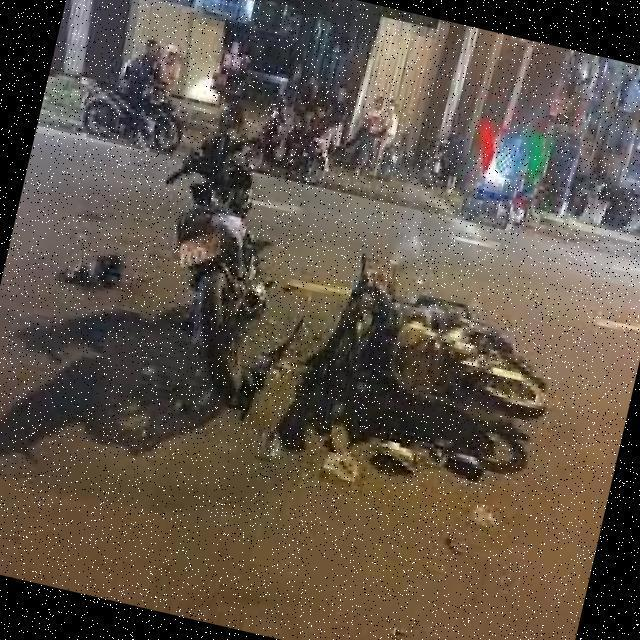accident: (82, 89, 363, 435), (279, 221, 593, 491)
